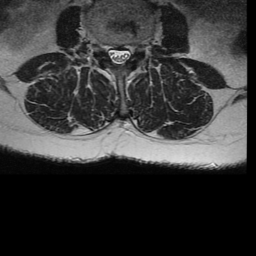CCS_severe_stenosis: (115, 39, 123, 75)
LFS_normal: (131, 36, 140, 61)
LLS_normal: (123, 39, 131, 70)
RFS_normal: (98, 33, 107, 59)
RLS_normal: (106, 38, 115, 67)
